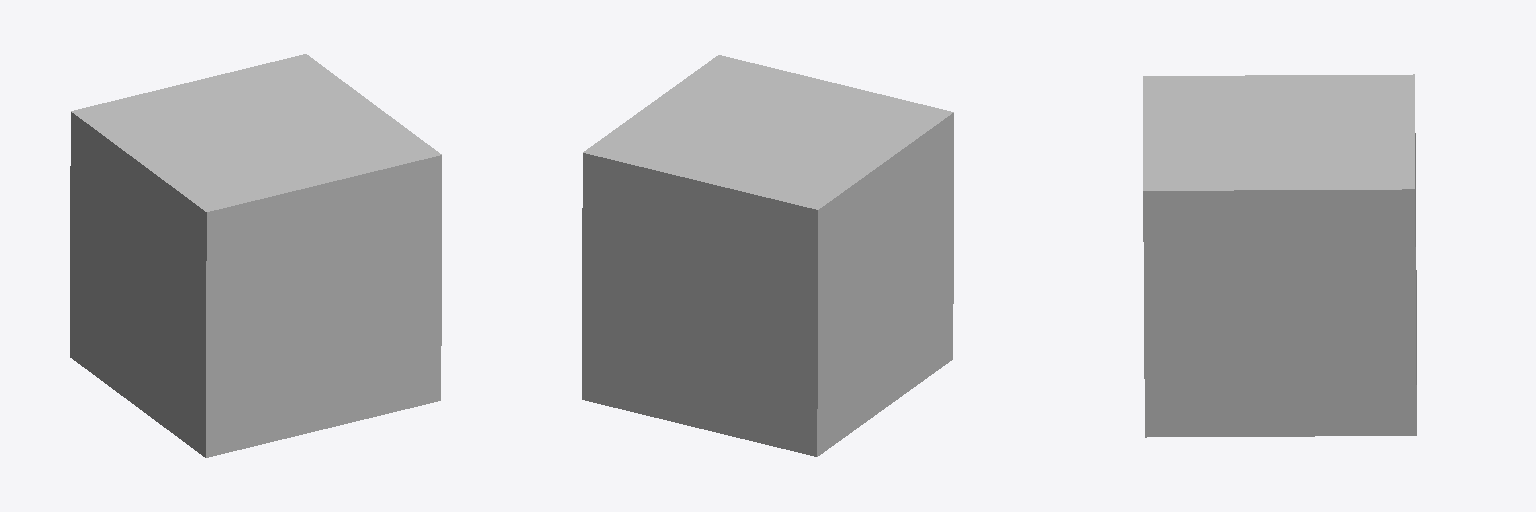
Rendered from steveHead.obj.
3 renders of one model, left to right at view 1: azimuth 30°, elevation 25°; view 2: azimuth 150°, elevation 25°; view 3: azimuth 270°, elevation 25°, orthographic.
Parts seen in each view (by area): view 1: Steve_Head; view 2: Steve_Head; view 3: Steve_Head.
Boxes of the visible parts, x1,y1,x2,y2 form: Steve_Head: [70, 54, 441, 457]; Steve_Head: [582, 55, 953, 456]; Steve_Head: [1143, 74, 1416, 437].
Bounding box in the file's own units: 2 × 2.01 × 2.01.